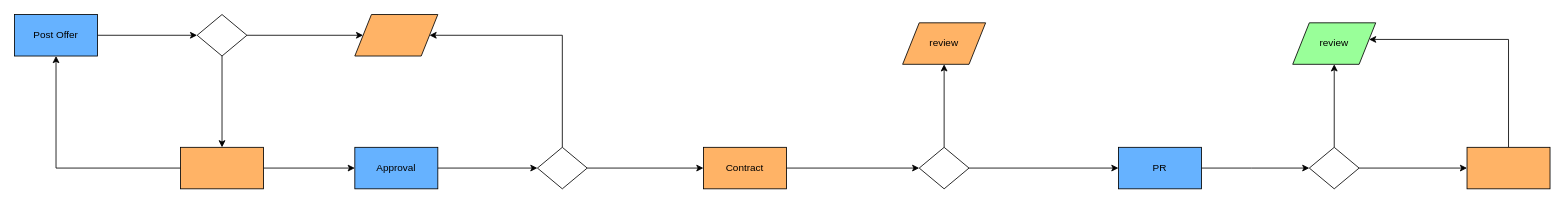
Image size: 1565x203. Some labels were removed from this diagram. The shapes that lost their labels are listed below. From the top down, each one's box as (x1, y1, x2, y2) in pixels, then its label:
(354, 14, 438, 56): decline
(180, 146, 264, 189): Counter Offer
(1466, 146, 1550, 189): Zap
